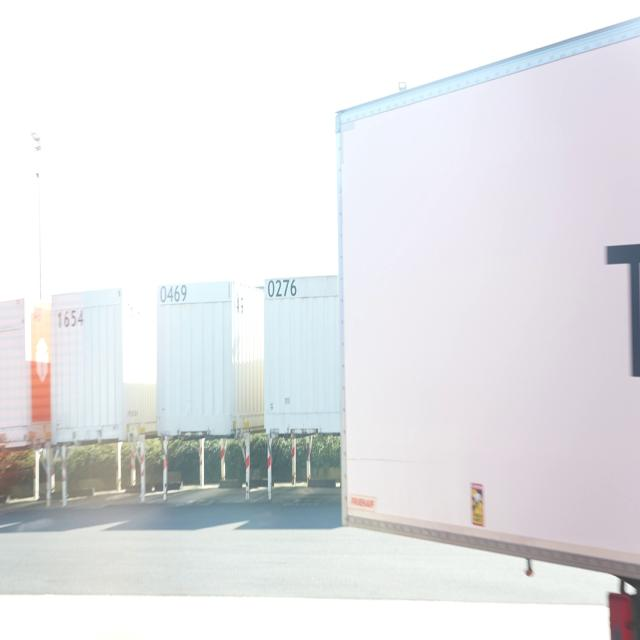Code: (52, 305, 90, 329), (264, 274, 298, 300), (156, 282, 190, 307)
